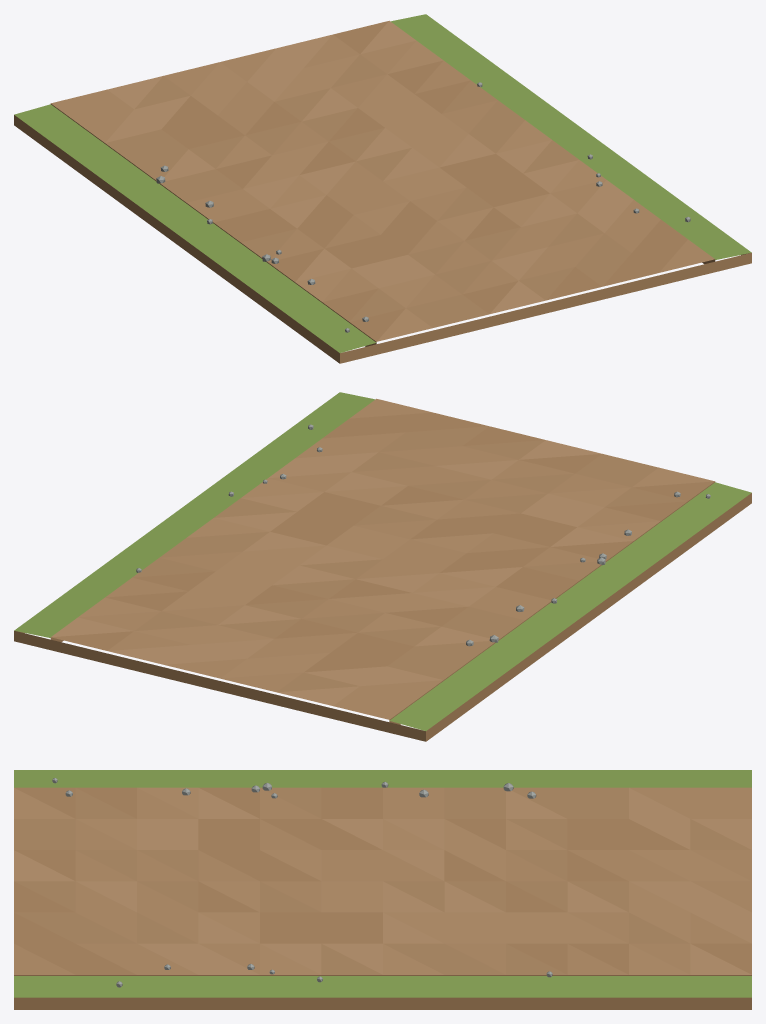
Rendered from dirt_straight.glb.
3 views of the same model, one above another, from view 1: azimuth 30°, elevation 25°; view 2: azimuth 150°, elevation 25°; view 3: azimuth 270°, elevation 25° (orthographic). The views are drawn at different scales.
Parts seen in each view (by area): view 1: Body.006; view 2: Body.006; view 3: Body.006.
Boxes of the visible parts, bbox=[...] form: Body.006: bbox=[14, 14, 751, 363]; Body.006: bbox=[14, 392, 751, 741]; Body.006: bbox=[14, 770, 751, 1009].
Size of the model in its own units: 7.3 by 0.315 by 10.
